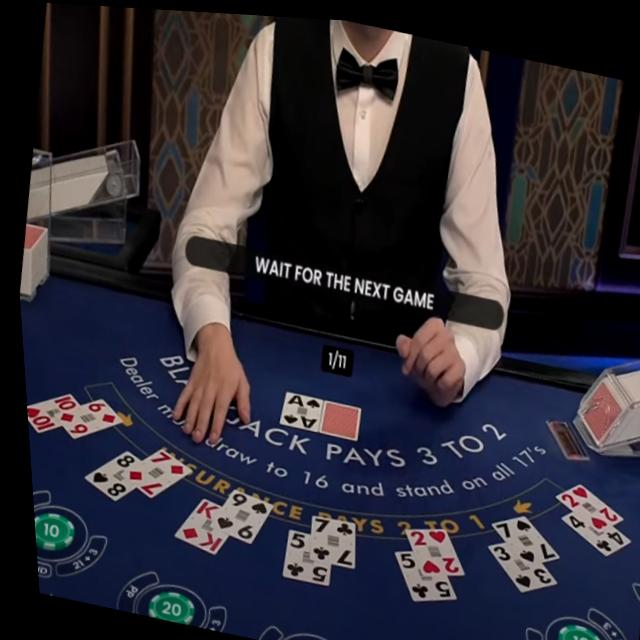Card-10: (21, 393, 74, 433)
Card-2: (549, 476, 617, 525), (398, 524, 457, 571)
Card-3: (480, 536, 550, 588)
Card-4: (554, 504, 624, 550)
Card-5: (387, 547, 449, 597), (275, 526, 323, 583)
Card-6: (49, 397, 117, 439)
Card-7: (116, 447, 185, 498), (484, 509, 552, 560), (302, 511, 348, 565)
Card-8: (77, 449, 135, 501)
Card-9: (203, 486, 266, 542)
Card-A: (274, 387, 318, 428)
Card-K: (167, 495, 221, 554)
